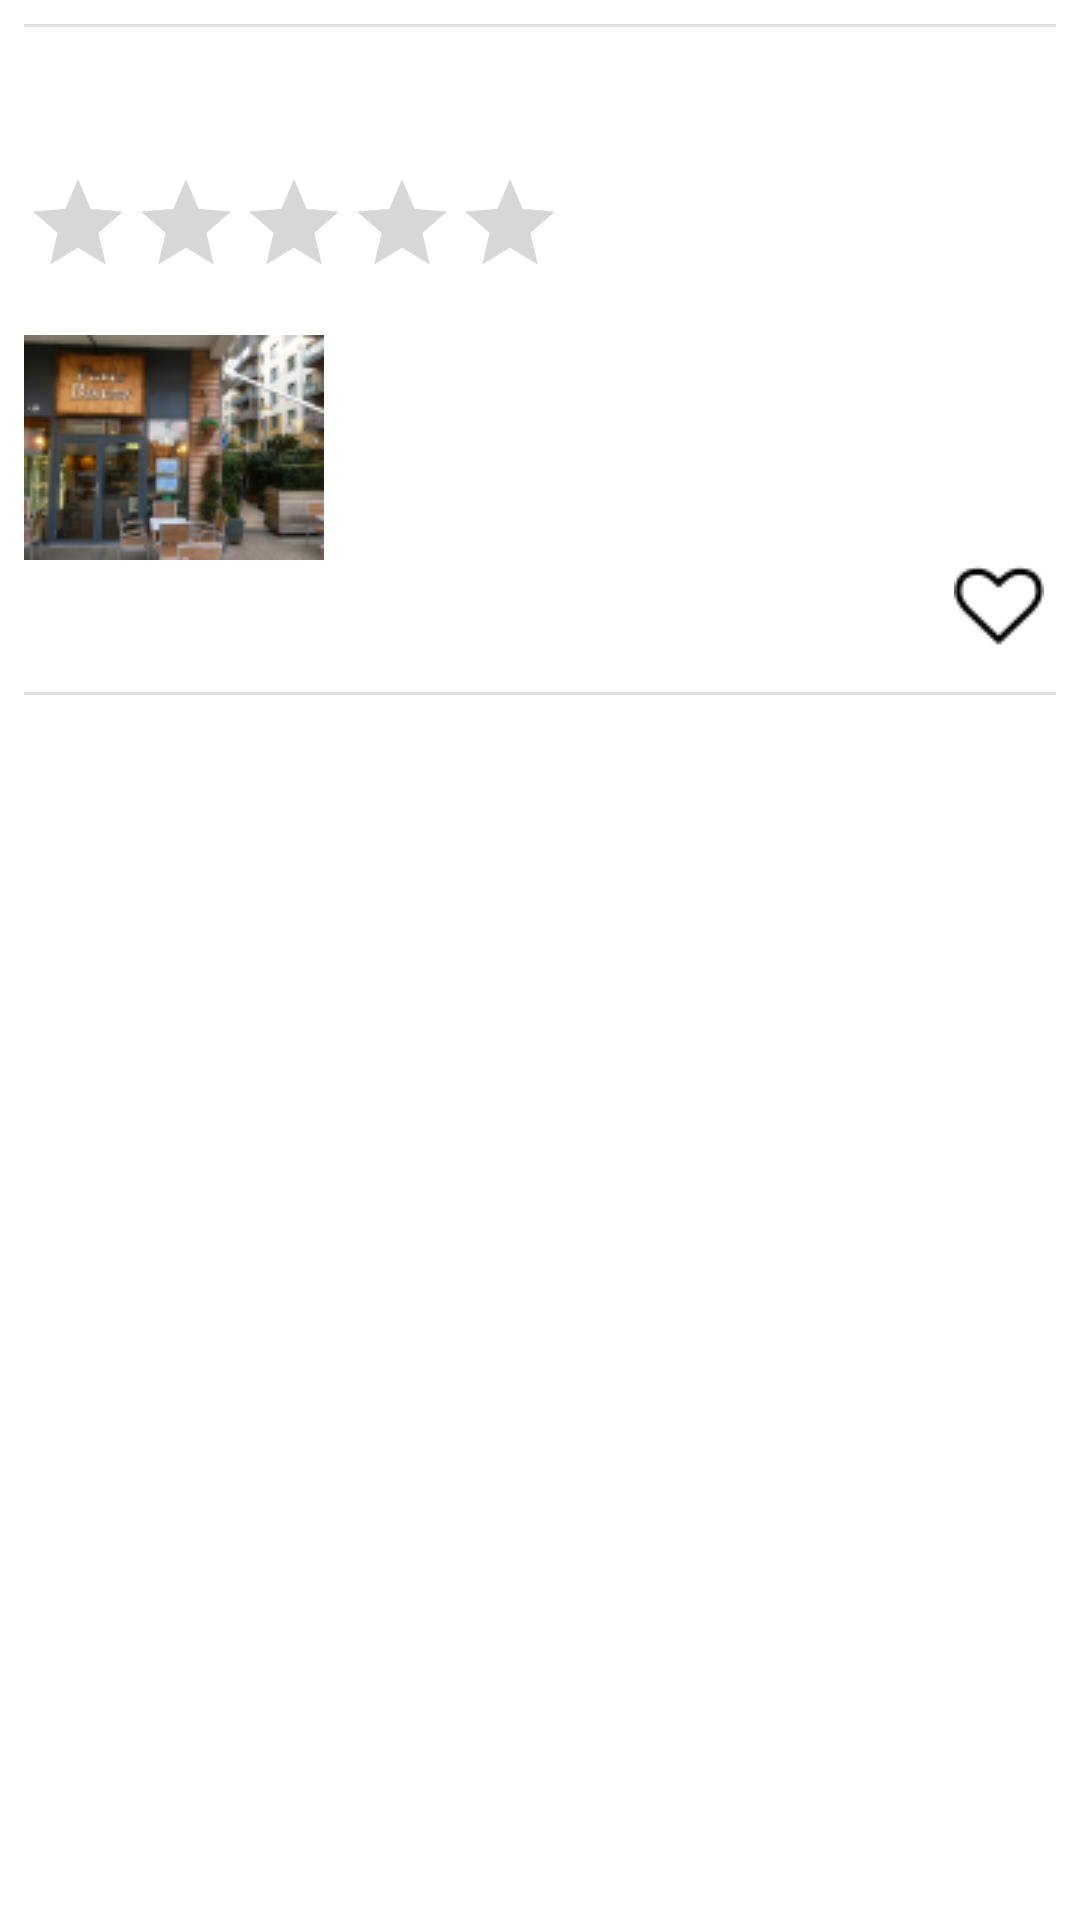

Where to tap for icons on this 1080×1920 app screen, as [x,y]:
A like button: [999,606]
Users' tagged image: [174,447]
